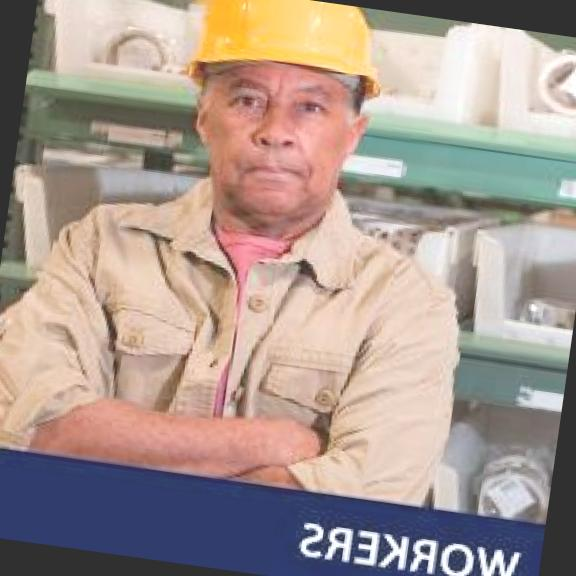no_safety_vest: (0, 167, 480, 503)
